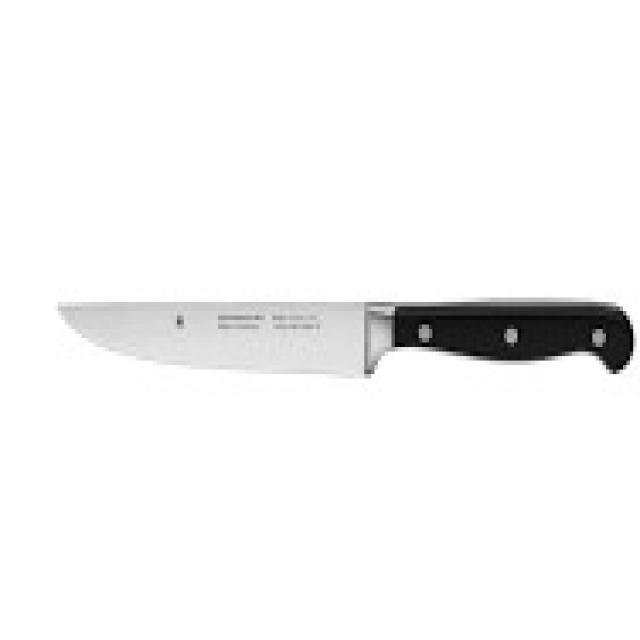knife: (54, 284, 638, 401)
